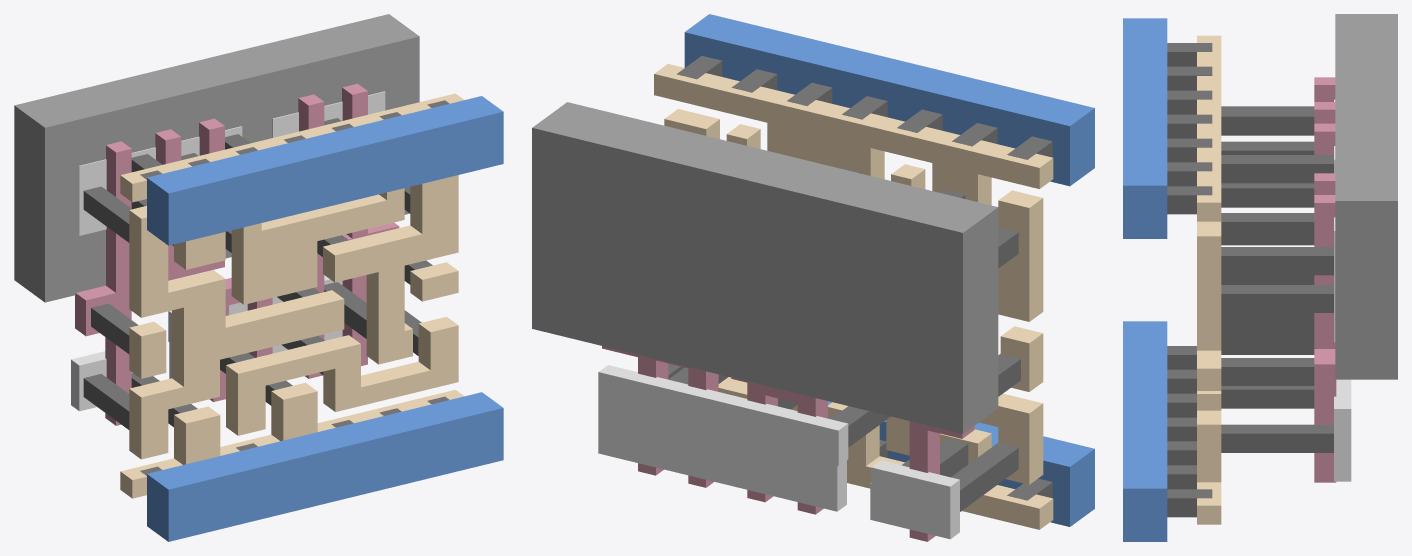
Rendered from sky130_fd_sc_hd__einvn_2.gds.gltf.
3 renders of one model, left to right at view 1: azimuth 30°, elevation 25°; view 2: azimuth 150°, elevation 25°; view 3: azimuth 270°, elevation 25°, orthographic. The views are drawn at different scales.
Visible parts, largest first — view 1: sky130_fd_sc_hd__einvn_2_li1, sky130_fd_sc_hd__einvn_2_met1, sky130_fd_sc_hd__einvn_2_nwell, sky130_fd_sc_hd__einvn_2_poly, sky130_fd_sc_hd__einvn_2_licon, sky130_fd_sc_hd__einvn_2_diff, sky130_fd_sc_hd__einvn_2_mcon; view 2: sky130_fd_sc_hd__einvn_2_nwell, sky130_fd_sc_hd__einvn_2_li1, sky130_fd_sc_hd__einvn_2_diff, sky130_fd_sc_hd__einvn_2_met1, sky130_fd_sc_hd__einvn_2_licon, sky130_fd_sc_hd__einvn_2_mcon, sky130_fd_sc_hd__einvn_2_poly; view 3: sky130_fd_sc_hd__einvn_2_licon, sky130_fd_sc_hd__einvn_2_nwell, sky130_fd_sc_hd__einvn_2_met1, sky130_fd_sc_hd__einvn_2_mcon, sky130_fd_sc_hd__einvn_2_li1, sky130_fd_sc_hd__einvn_2_poly, sky130_fd_sc_hd__einvn_2_diff.
Boxes of the visible parts, <box> form: sky130_fd_sc_hd__einvn_2_li1: <box>120,93,463,498</box>; sky130_fd_sc_hd__einvn_2_met1: <box>147,96,503,541</box>; sky130_fd_sc_hd__einvn_2_nwell: <box>14,14,419,302</box>; sky130_fd_sc_hd__einvn_2_poly: <box>75,83,399,425</box>; sky130_fd_sc_hd__einvn_2_licon: <box>83,118,432,429</box>; sky130_fd_sc_hd__einvn_2_diff: <box>71,91,385,411</box>; sky130_fd_sc_hd__einvn_2_mcon: <box>140,100,449,475</box>; sky130_fd_sc_hd__einvn_2_nwell: <box>532,102,998,433</box>; sky130_fd_sc_hd__einvn_2_li1: <box>654,64,1053,529</box>; sky130_fd_sc_hd__einvn_2_diff: <box>598,365,959,539</box>; sky130_fd_sc_hd__einvn_2_met1: <box>684,14,1094,526</box>; sky130_fd_sc_hd__einvn_2_licon: <box>668,167,1020,511</box>; sky130_fd_sc_hd__einvn_2_mcon: <box>677,56,1052,500</box>; sky130_fd_sc_hd__einvn_2_poly: <box>602,346,974,541</box>; sky130_fd_sc_hd__einvn_2_licon: <box>1221,106,1333,452</box>; sky130_fd_sc_hd__einvn_2_nwell: <box>1335,14,1397,379</box>; sky130_fd_sc_hd__einvn_2_met1: <box>1123,18,1167,541</box>; sky130_fd_sc_hd__einvn_2_mcon: <box>1167,43,1212,517</box>; sky130_fd_sc_hd__einvn_2_li1: <box>1197,35,1221,524</box>; sky130_fd_sc_hd__einvn_2_poly: <box>1314,77,1336,482</box>; sky130_fd_sc_hd__einvn_2_diff: <box>1334,99,1351,481</box>.
Size of the model in its own units: 3.6 by 3.2 by 2.24.
